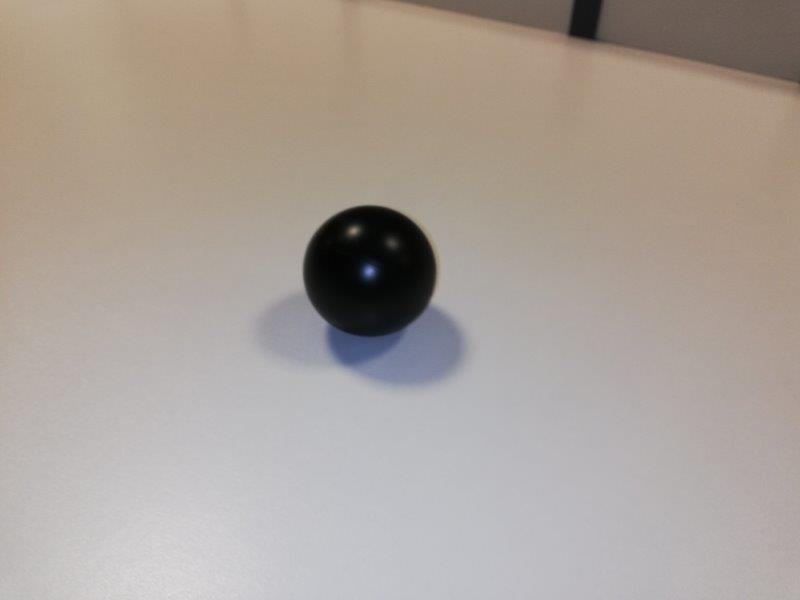nera: (302, 205, 438, 339)
